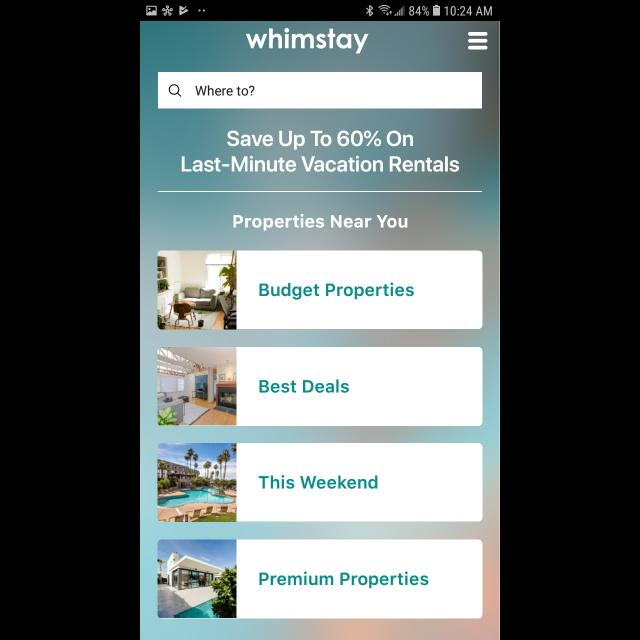icon: (468, 32, 488, 50), (170, 84, 182, 98)
image: (158, 346, 238, 426), (158, 250, 238, 330), (158, 442, 236, 522), (158, 540, 236, 618)
input: (158, 73, 482, 109)
text: (181, 130, 459, 172), (246, 28, 370, 54), (234, 213, 408, 231), (260, 283, 414, 301), (260, 572, 428, 588), (258, 475, 378, 489), (259, 379, 349, 393), (196, 85, 254, 96)
uppertaskbar: (140, 1, 500, 22)
